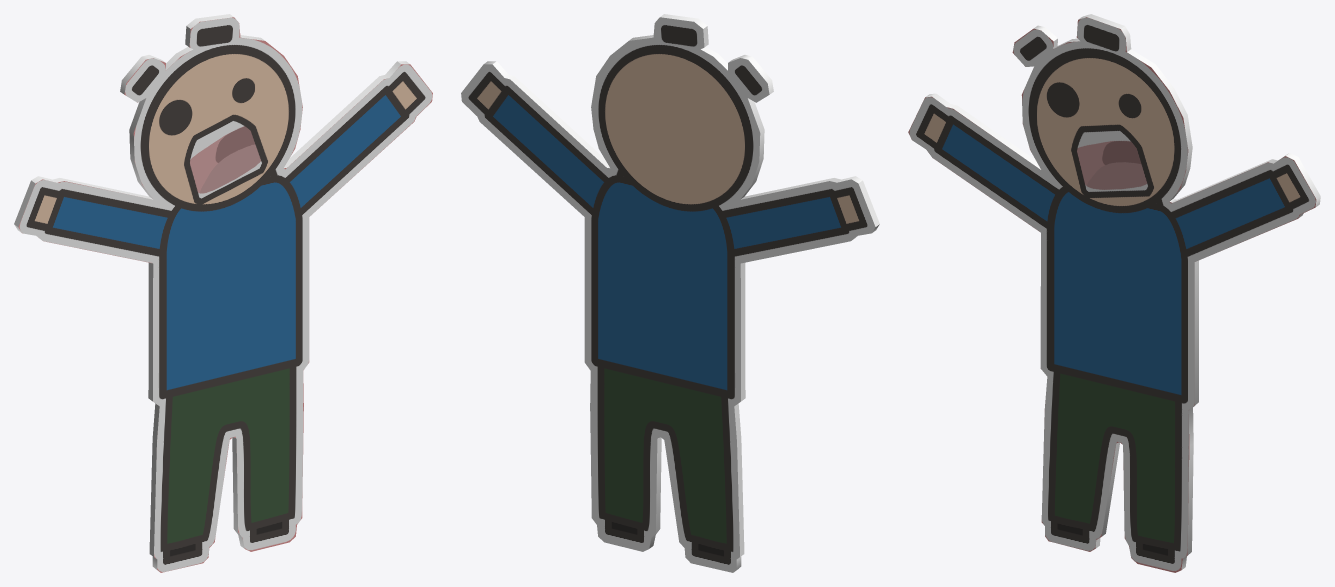
Rendered from HumenPanicked.FBX.
The picture shows the model from 3 angles, left to right: view 1: azimuth 30°, elevation 25°; view 2: azimuth 150°, elevation 25°; view 3: azimuth 330°, elevation 25°; orthographic projection.
Visible parts, largest first — view 1: Dude_Panic; view 2: Dude_Panic; view 3: Dude_Panic.
Boxes of the visible parts, left/top/right/bottom form: Dude_Panic: left=14, top=14, right=432, bottom=572; Dude_Panic: left=461, top=14, right=879, bottom=572; Dude_Panic: left=908, top=14, right=1320, bottom=572.
Bounding box in the file's own units: 74.14 × 92.73 × 1.35.
2 materials, 2 textured.
